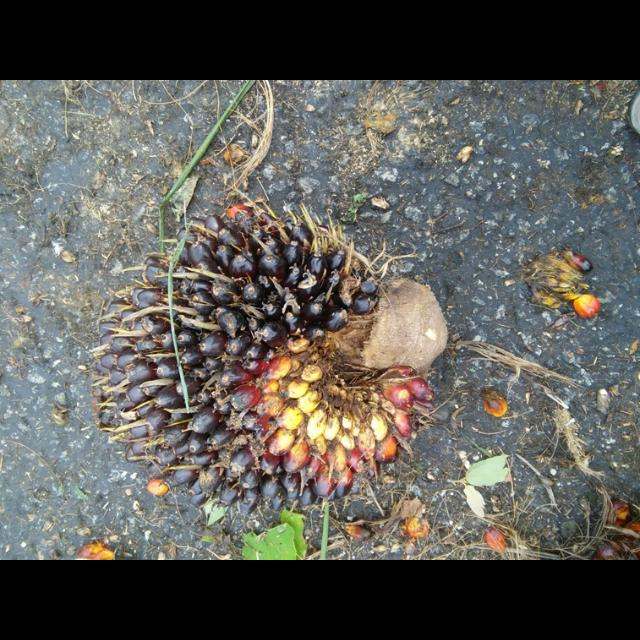Unripe: (91, 198, 432, 511)
